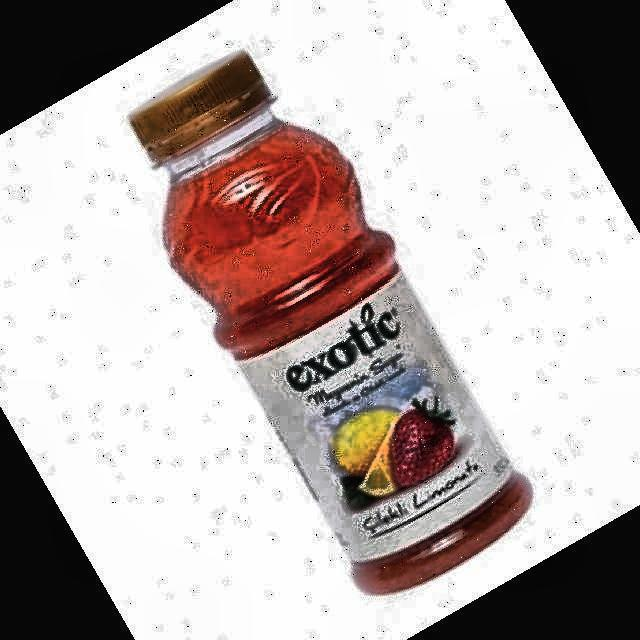plastic: (130, 51, 531, 593)
